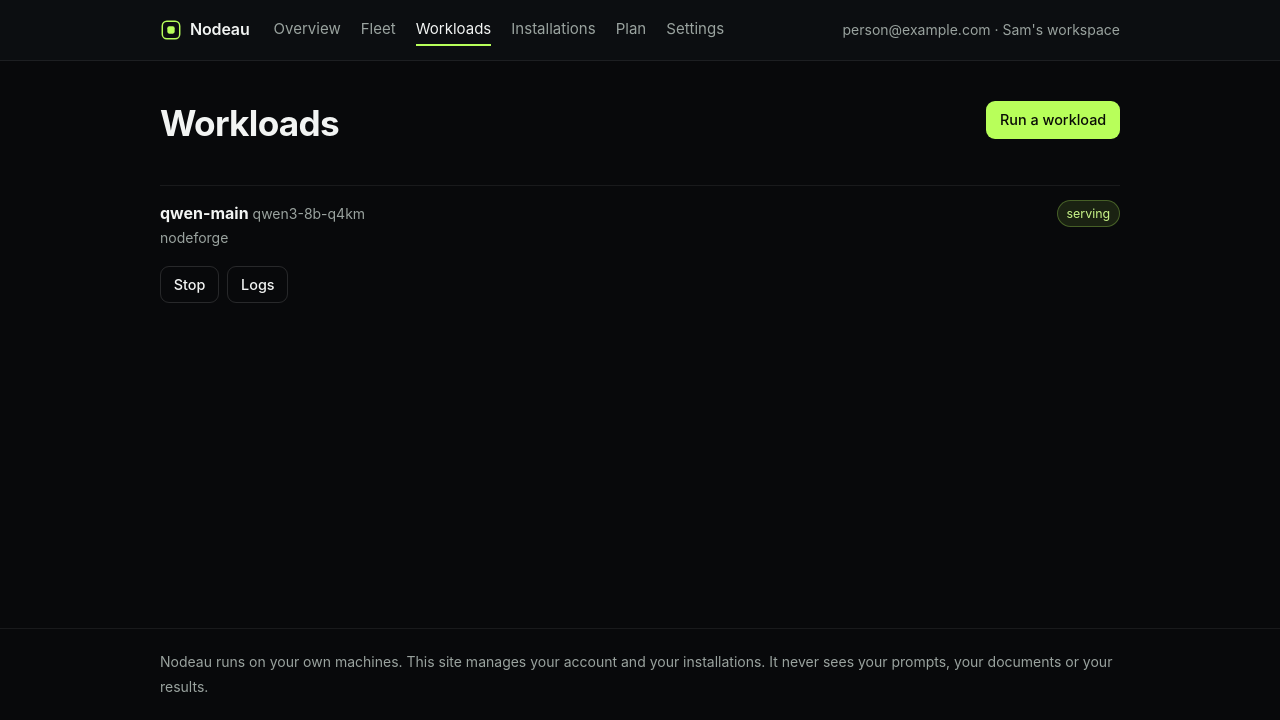
Test: operations › shows a refusal in the product’s own words rather than an HTTP status
Expected: the text "qwen-main" is shown, [160,203,249,223]
Click the button "Stop".
click(190, 284)  # box [160,266,219,303]
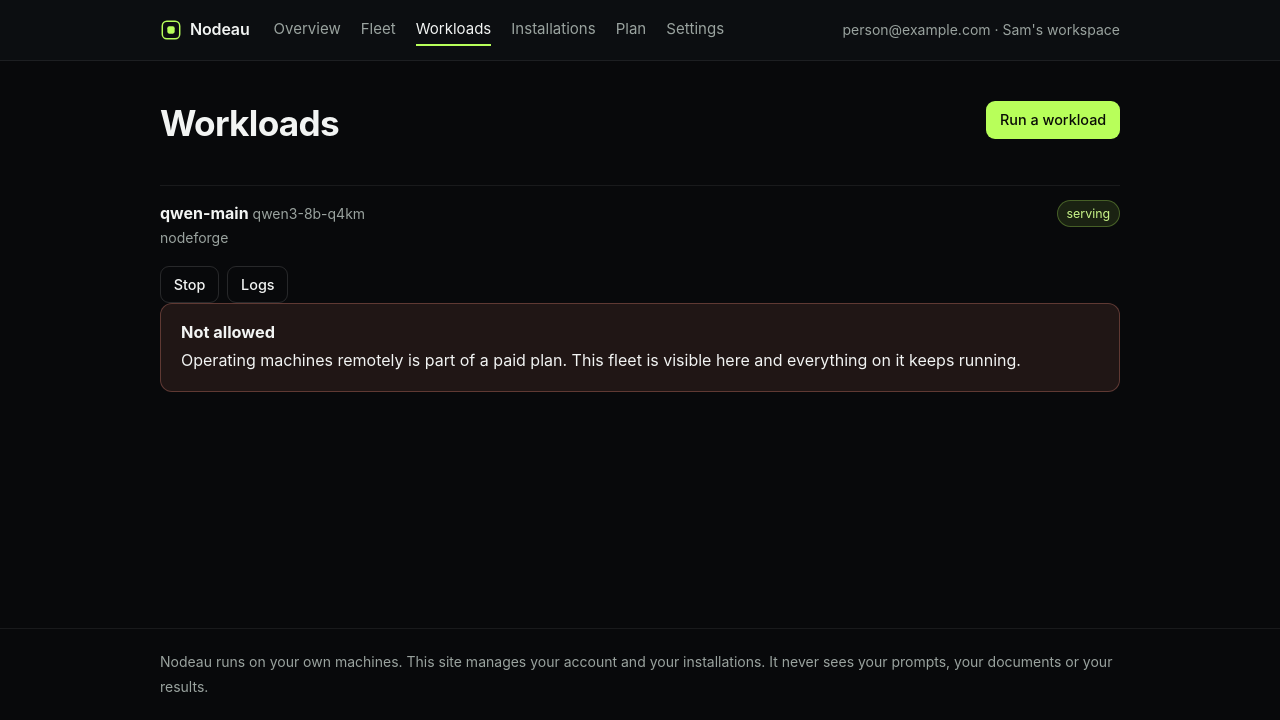
Expected: the text "serving" is shown, [1057,200,1120,227]
Result: the text "part of a paid plan" is shown at [181,350,1021,370]
